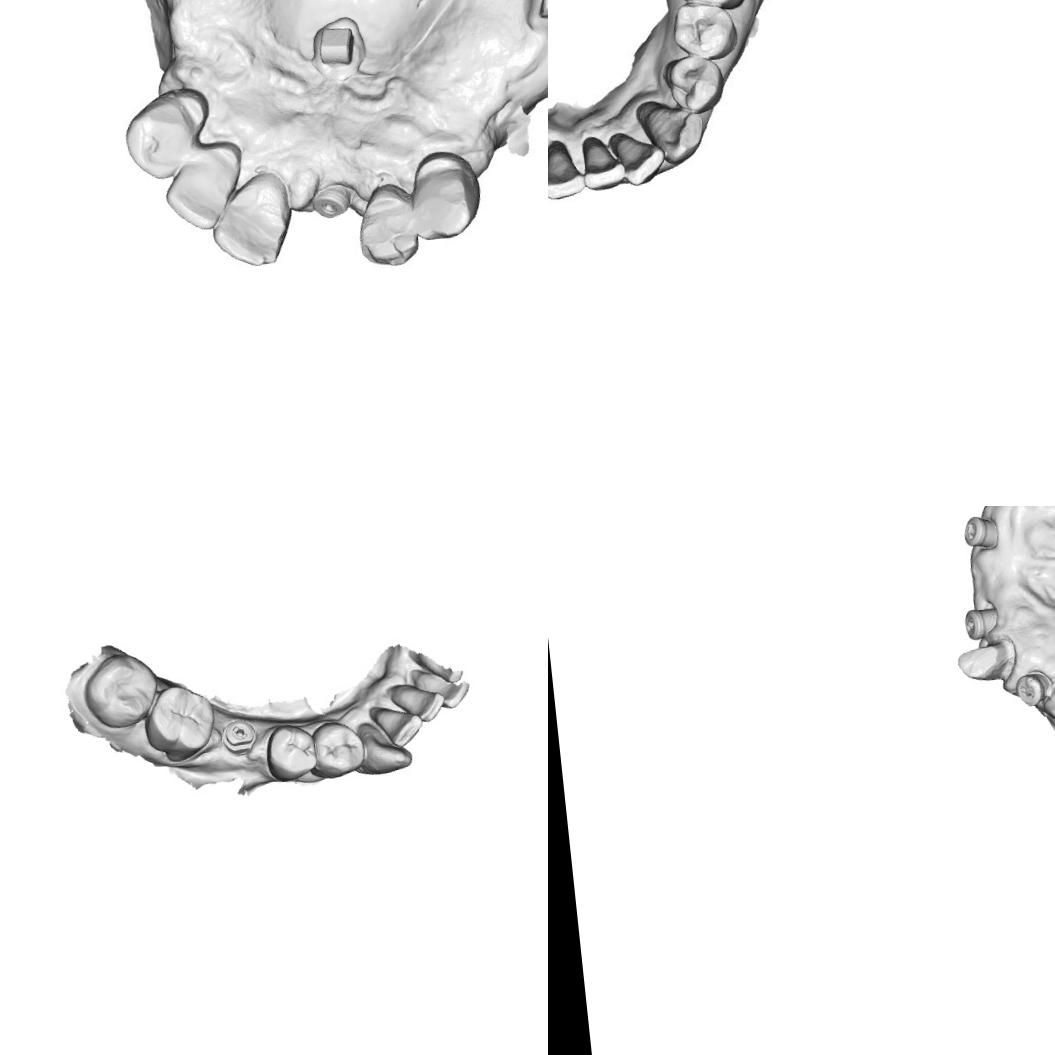canine: (115, 93, 205, 186), (409, 158, 484, 245), (631, 92, 703, 164), (353, 717, 416, 779)
crown: (952, 641, 1016, 685)
implant: (311, 176, 356, 223)
implant_minus: (958, 508, 1002, 552), (218, 714, 260, 756), (960, 605, 1001, 641), (1015, 672, 1048, 708)
incisor: (204, 174, 296, 274), (162, 146, 244, 236), (348, 185, 424, 274), (614, 125, 670, 189), (577, 133, 626, 194), (411, 666, 472, 713), (371, 700, 426, 752), (548, 141, 590, 202), (392, 682, 448, 727)
molar: (78, 648, 164, 734), (140, 680, 220, 768)
premolar: (670, 2, 736, 62), (261, 719, 320, 785), (309, 718, 369, 780), (668, 55, 725, 109)
